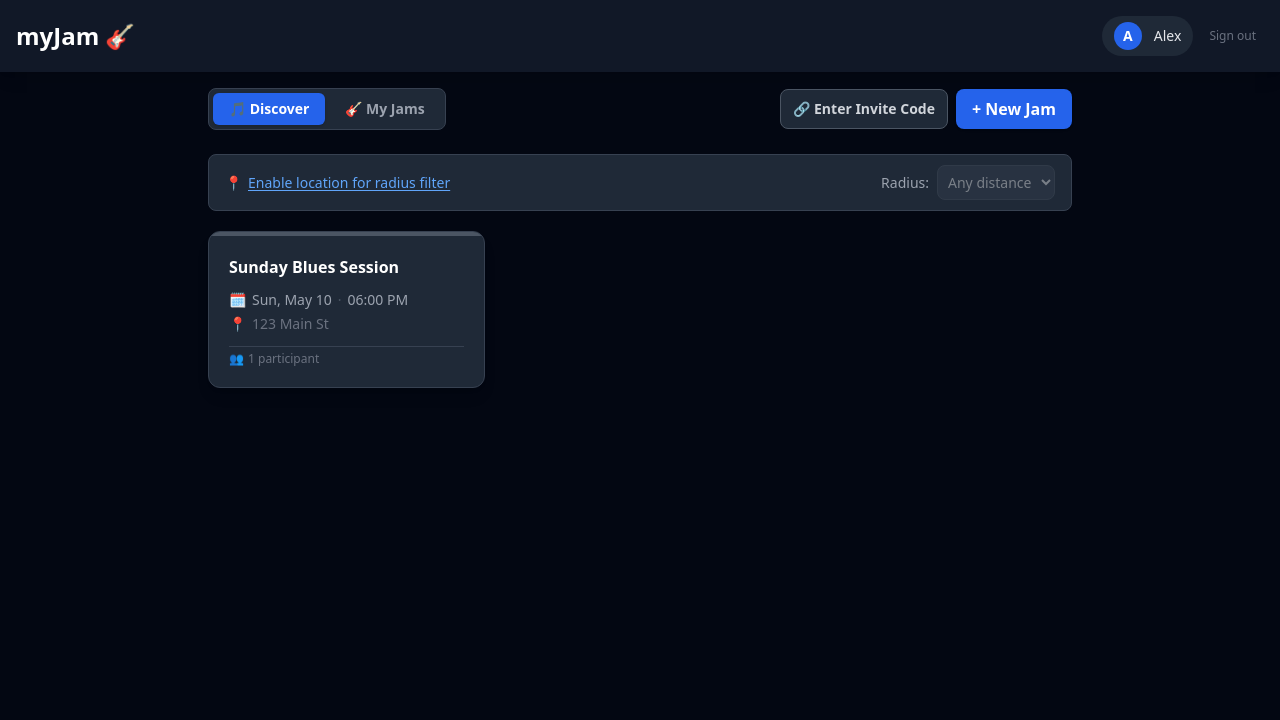
it: App interactions › reconciles a stale join when the account already joined from another browser
Click the heading "Sunday Blues Session".
click(314, 267)  # box [229, 256, 399, 278]
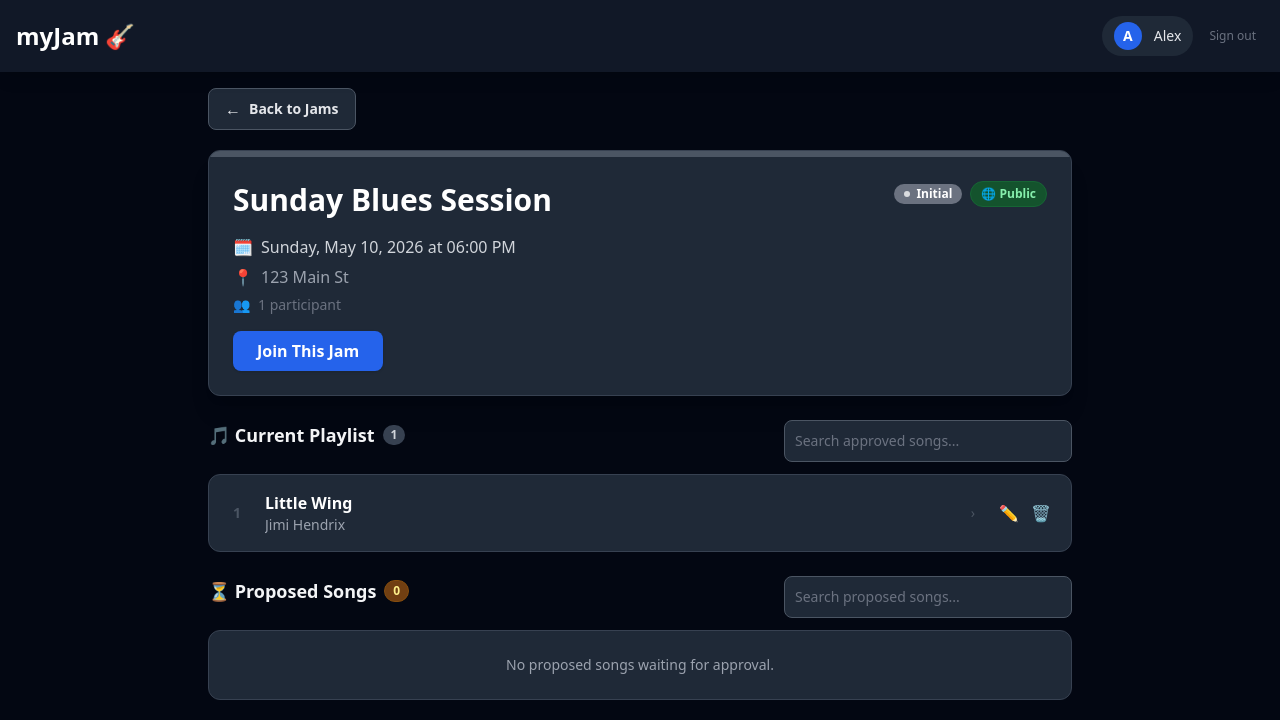
Expected: the button "Join This Jam" is shown
Click the button "Join This Jam".
click(308, 350)  # box [233, 330, 383, 370]
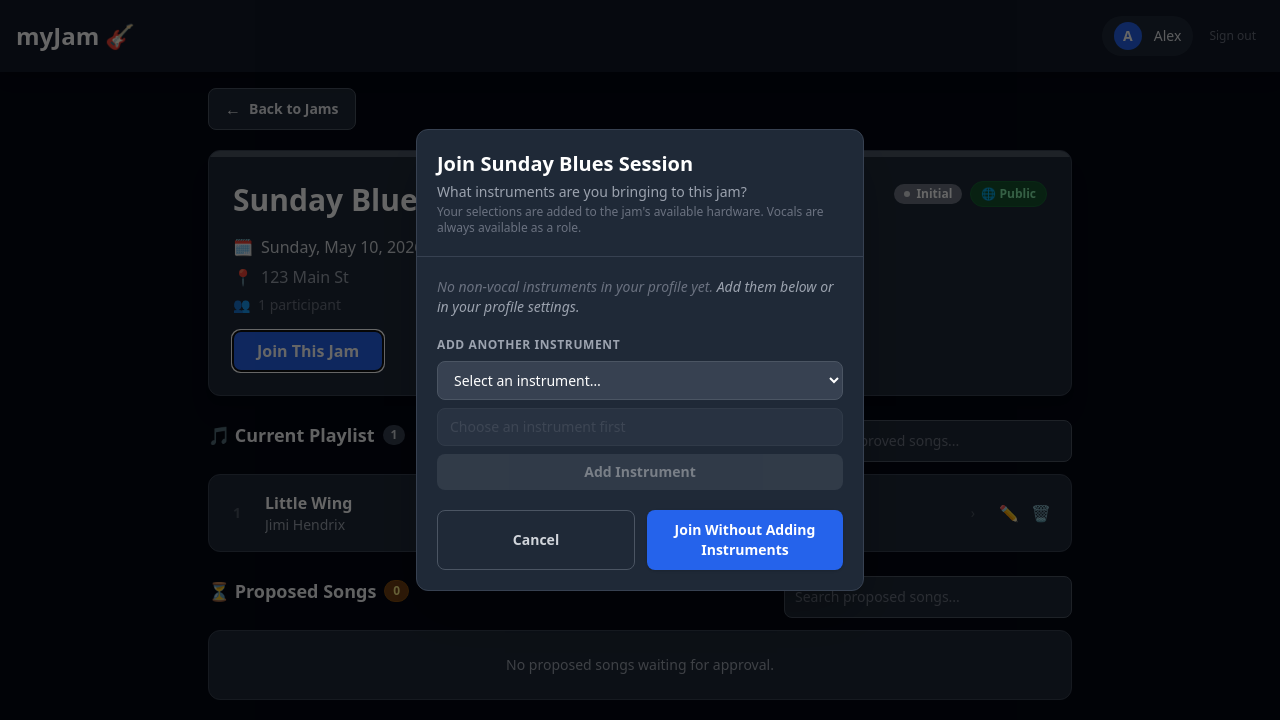
Click the button "Join Without Adding Instruments".
click(745, 540)  # box [647, 510, 843, 570]
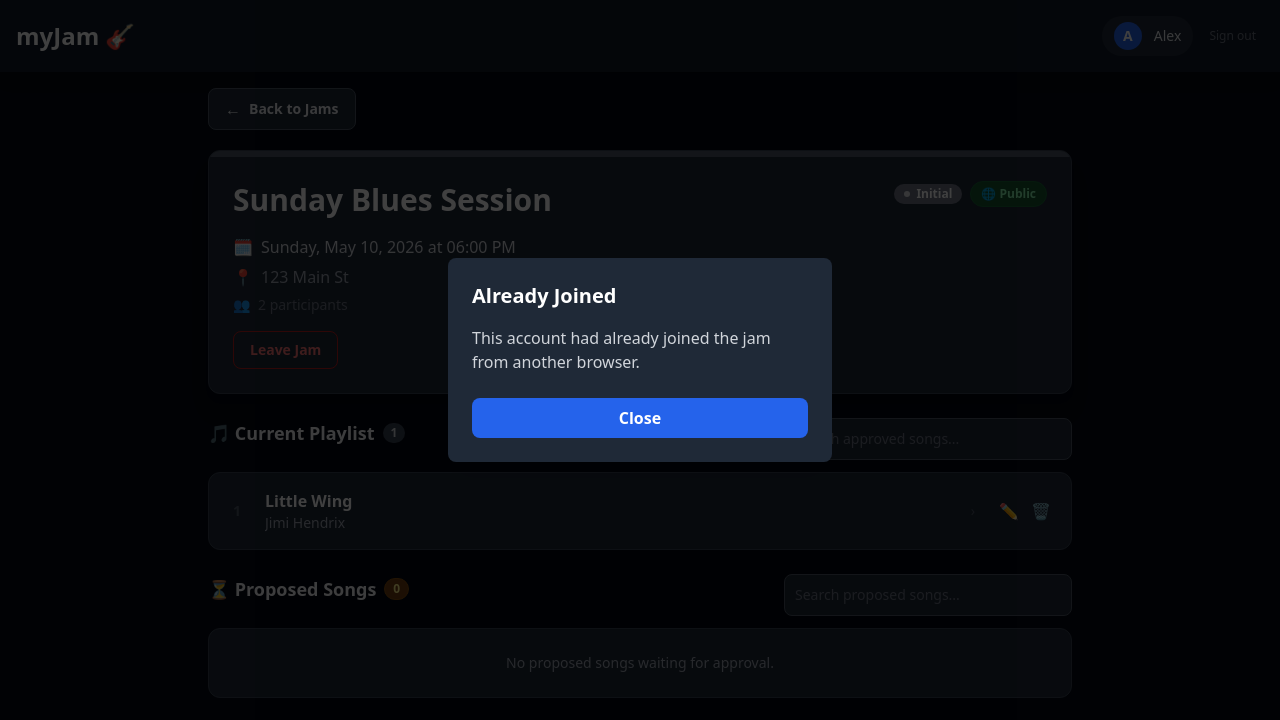
Expected: the heading "Already Joined" is shown, [472, 282, 616, 309]
